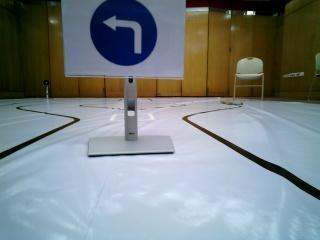left: (66, 1, 173, 73)
